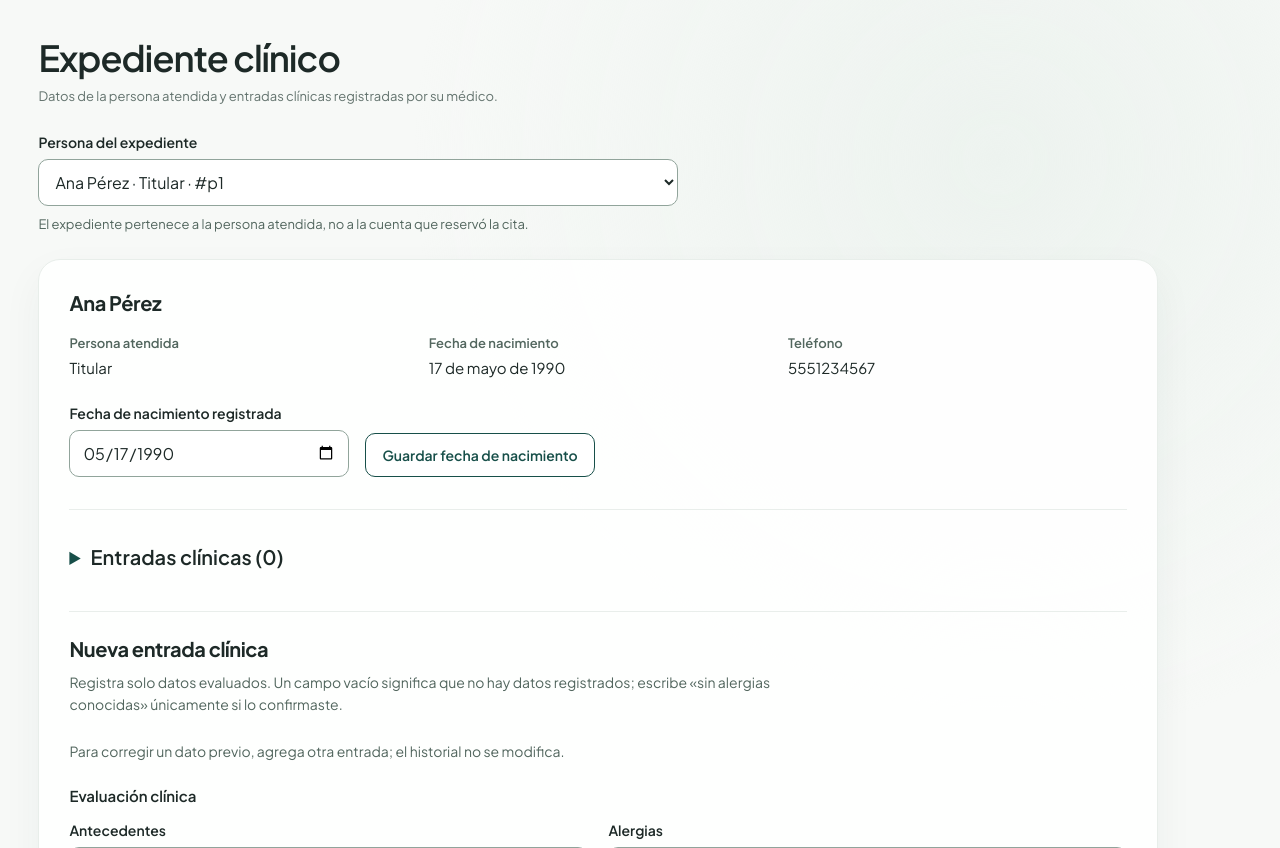
Scenario: physician can update only date of birth, retains failed input, and uses returned demographics
Check: the heading "Ana Pérez" is shown, box [69,290,161,315]
Type "1991-06-18" into the date field labelled "Fecha de nacimiento registrada" at (209, 453), box [69,430,349,477]
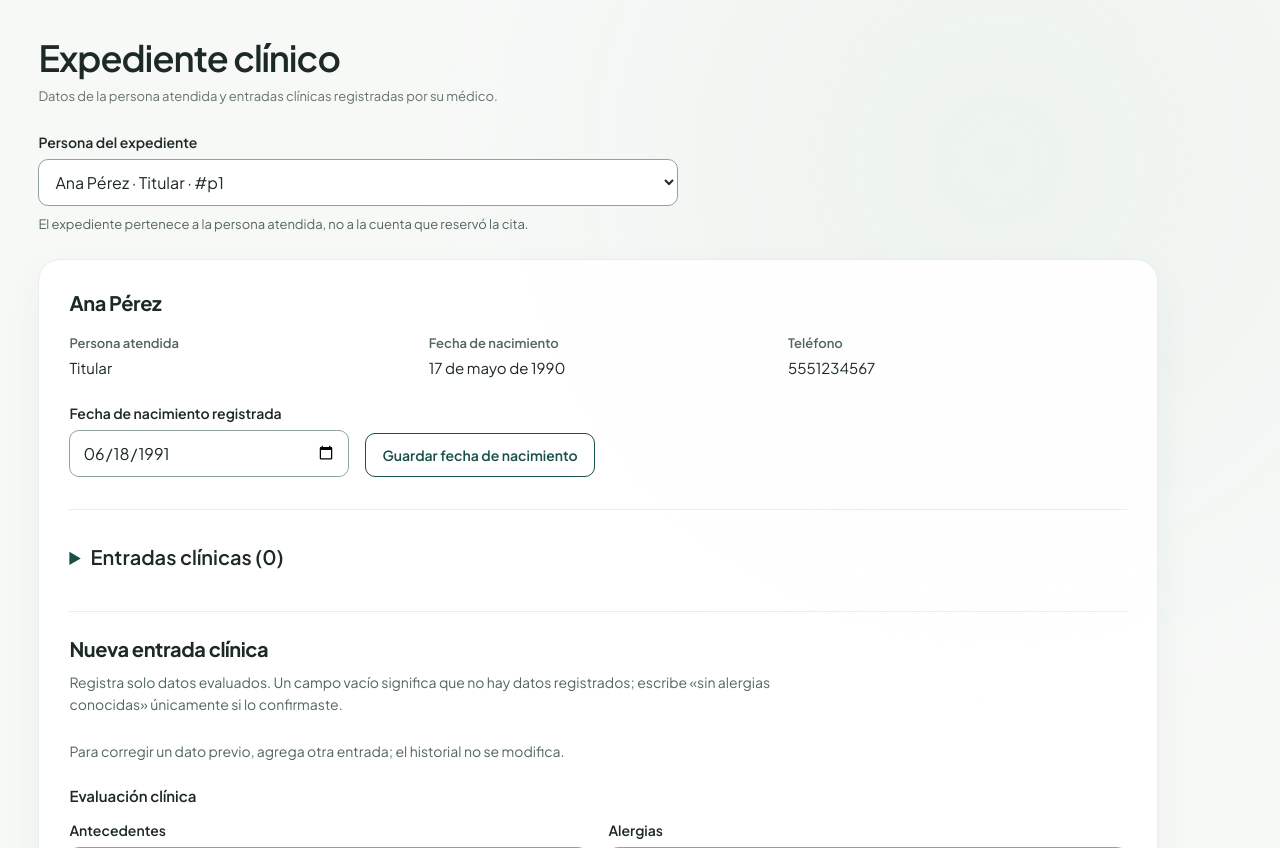
Click the button "Guardar fecha de nacimiento" at (480, 455), box [365,433,595,477]
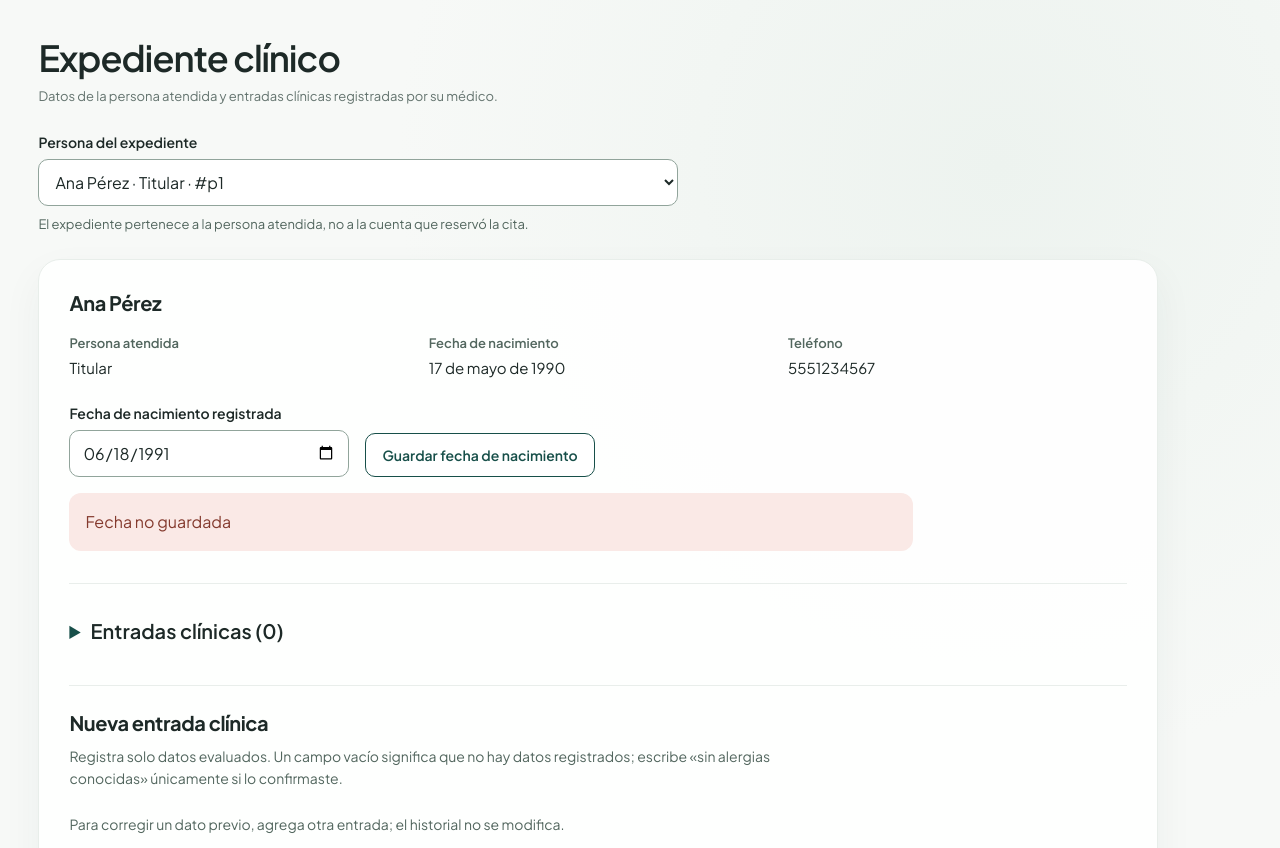
Check: the text "Fecha no guardada" is shown, box [69,493,913,550]
Click the button "Guardar fecha de nacimiento" at (480, 455), box [365,433,595,477]
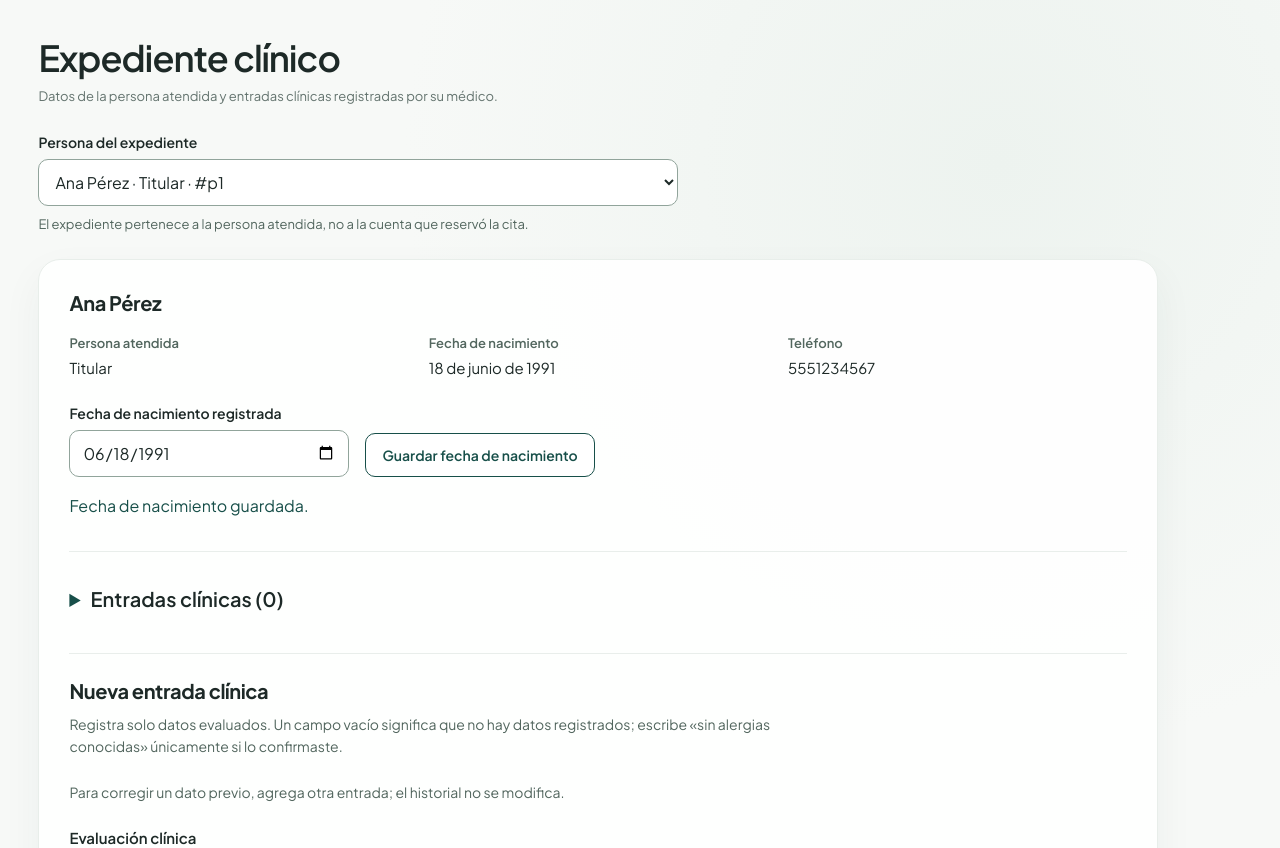
Check: the heading "Ana Pérez" is shown, box [69,290,161,315]
Check: the text "Fecha de nacimiento guardada." is shown, box [69,495,308,516]
